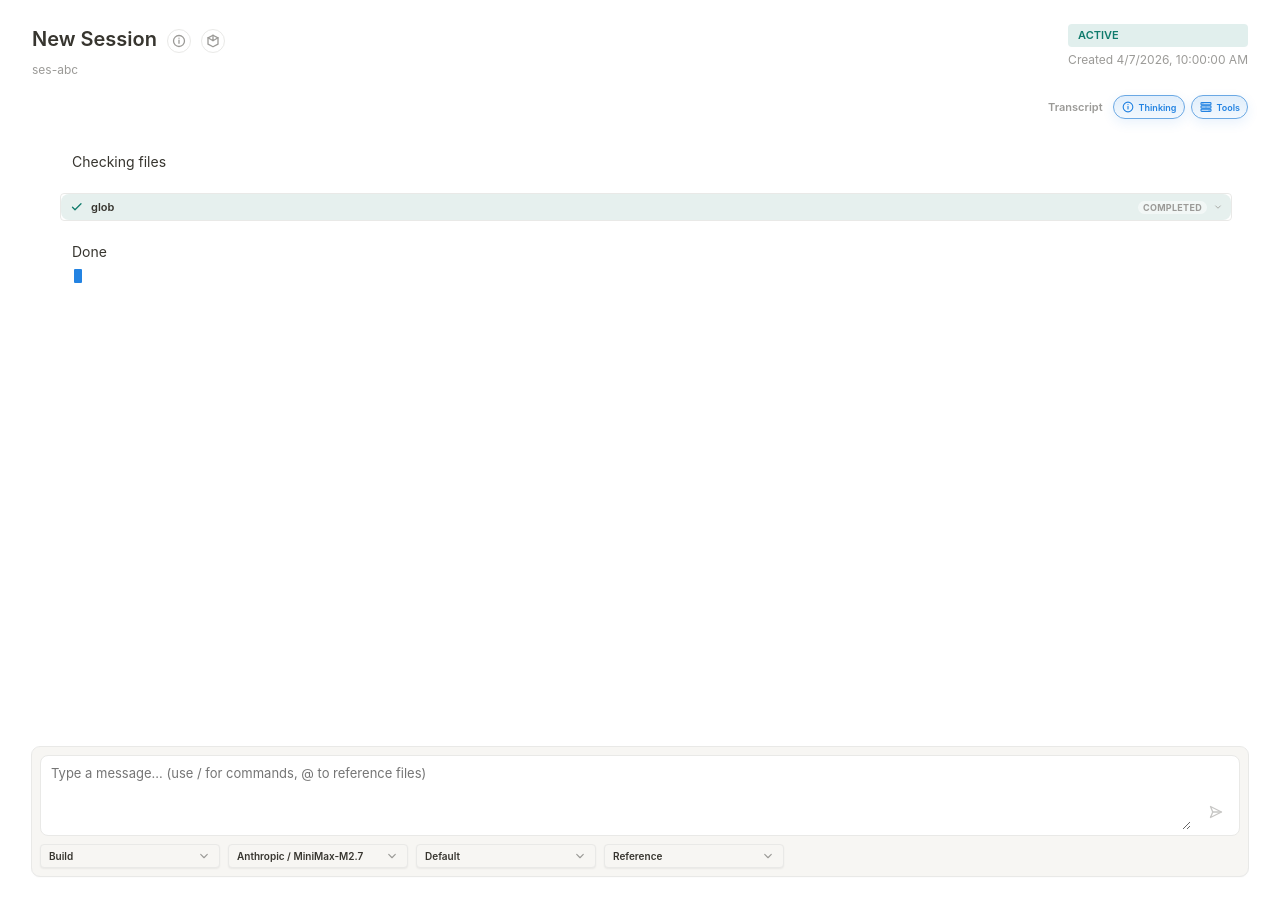
ChatPage › keeps inline tool blocks in chronological order and expands details
Expected: the element with test id "run-transcript-text-0" reads "Checking files", [72, 153, 166, 170]
Expected: the element with test id "live-output" reads "Done", [72, 243, 107, 260]
Click the button "glob Completed".
click(1172, 207)  # box [61, 194, 1231, 220]
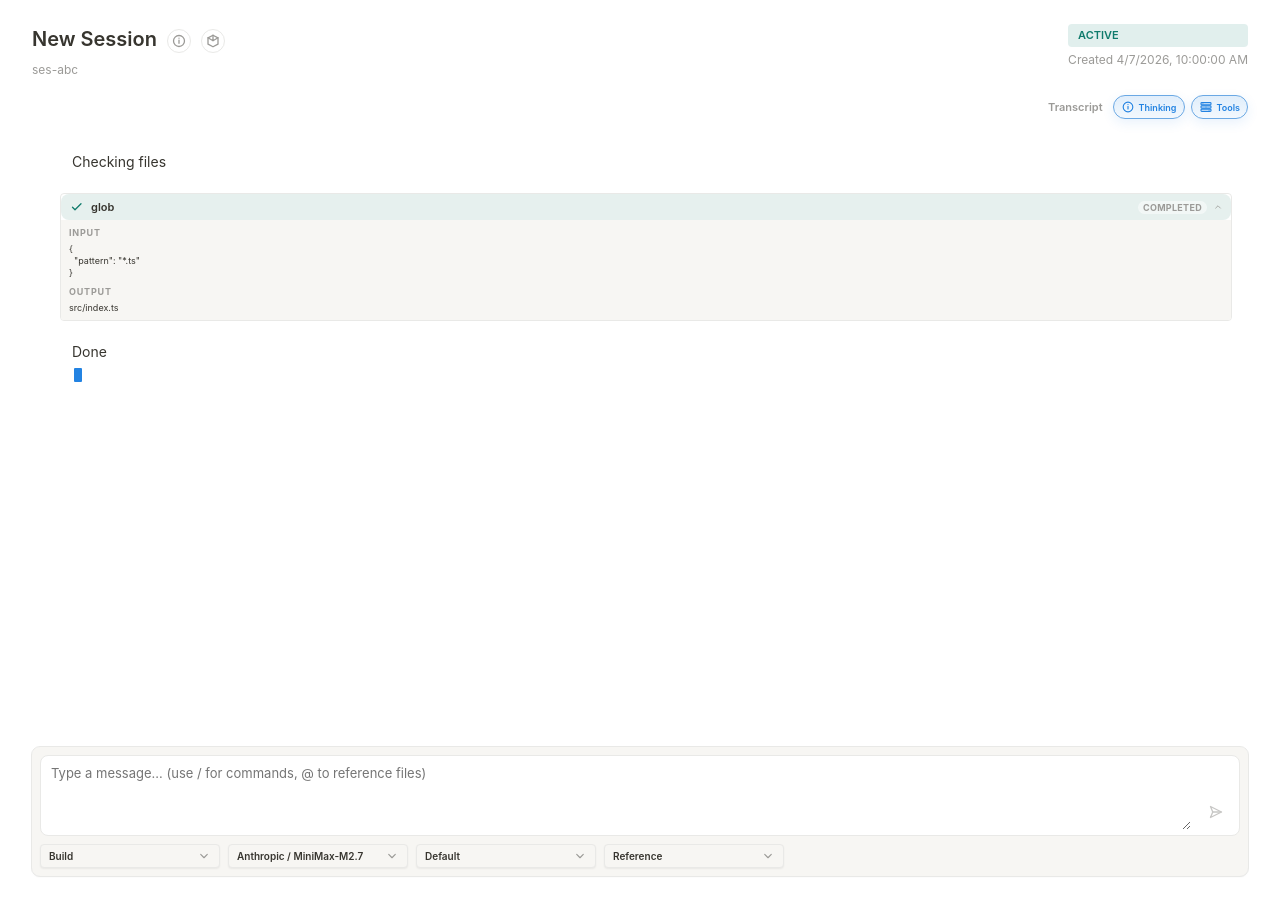
Expected: the text "Input" is shown, [69, 227, 101, 238]
Expected: the text "src/index.ts" is shown, [69, 302, 118, 313]
